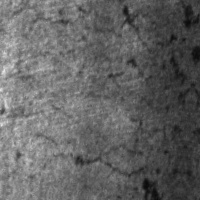crazing: (9, 1, 155, 72), (47, 105, 161, 178)
